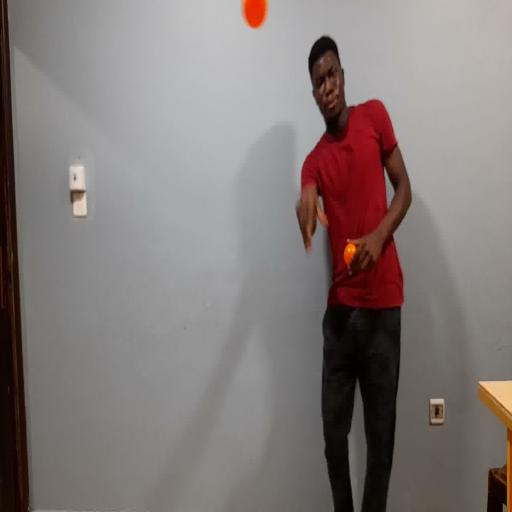plastic-ball: (238, 0, 271, 36)
